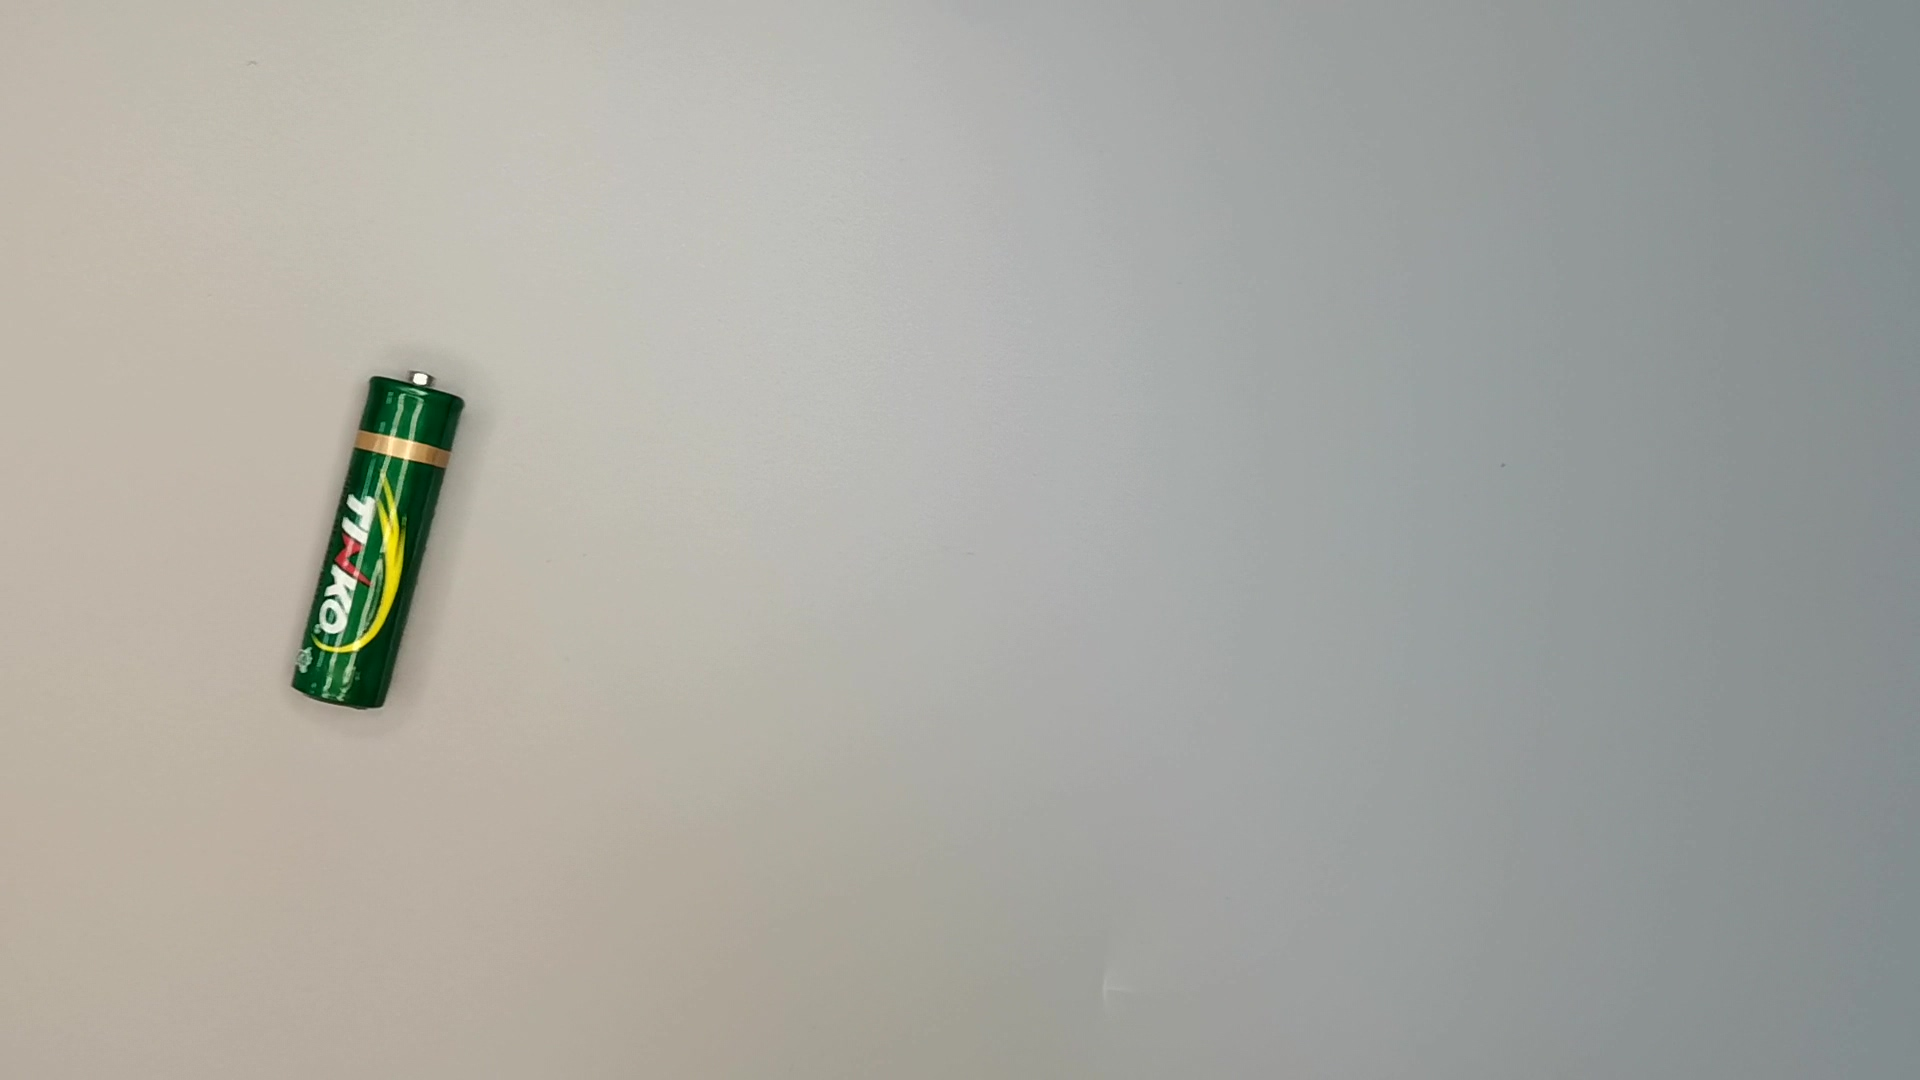battery: (276, 361, 469, 713)
